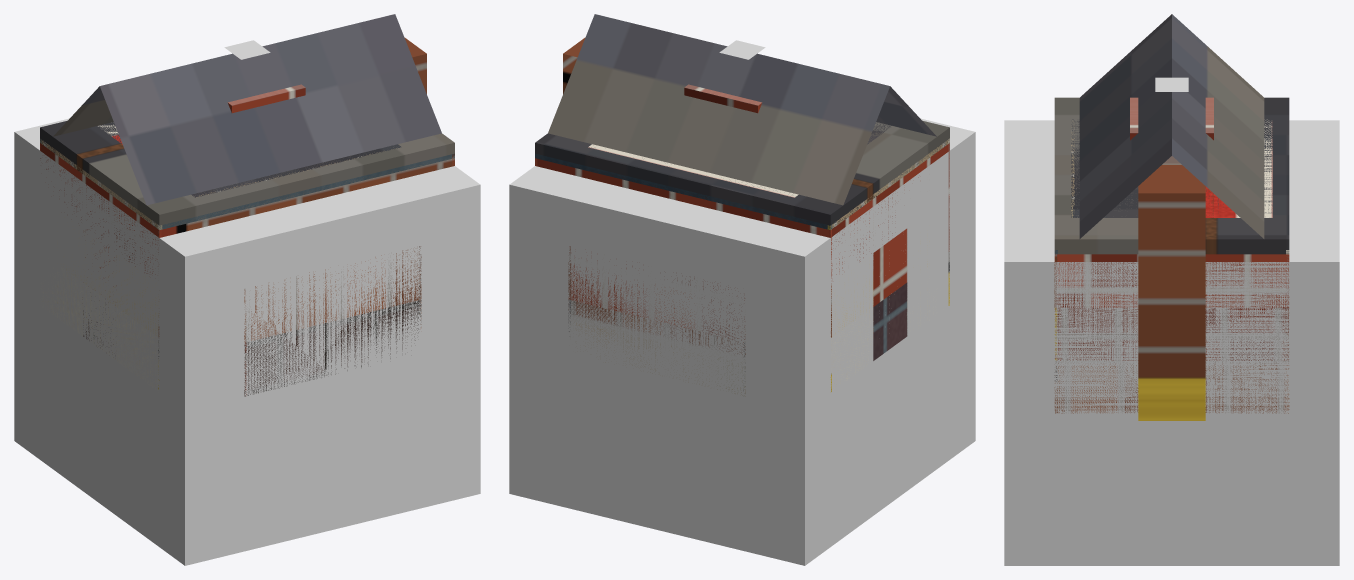
Rendered from blair_house.glb.
3 views of the same model, side by side, from view 1: azimuth 30°, elevation 25°; view 2: azimuth 150°, elevation 25°; view 3: azimuth 270°, elevation 25° (orthographic).
Visible parts, largest first — view 1: Cube, st_matthews_cathedral_roof_-1_xb, albany_courthouse_roof_xf, st_matthews_cathedral__wall_0_xb, albany_courthouse__wall_3_xb, albany_courthouse__wall_0_xb, albany_courthouse__cornice_0, st_matthews_cathedral_roof_1_xb, masonic_temple_roof_xb, st_matthews_cathedral__tower_xb, albany_courthouse__cornice_3; view 2: Cube, st_matthews_cathedral_roof_1_xb, albany_courthouse_roof_xf, st_matthews_cathedral__wall_9_xb, st_matthews_cathedral__wall_6_xb, albany_courthouse__wall_2_xb, st_matthews_cathedral__wall_9_xf, albany_courthouse__wall_3_xb, albany_courthouse__cornice_2, st_matthews_cathedral_roof_-1_xb, masonic_temple_roof_xb, st_matthews_cathedral__tower_xb (+1 smaller); view 3: Cube, laramie_fire_station__hose_tower_xf, albany_courthouse__wall_1_xb, st_matthews_cathedral_roof_-1_xb, st_matthews_cathedral_roof_1_xb, albany_courthouse_roof_xf, laramie_fire_station__hose_tower_xb, masonic_temple_roof_xb, st_matthews_cathedral__tower_xb, albany_courthouse_roof_xb, st_matthews_cathedral_cross_xb.
Part boxes in pixels (box(x1,y1,x2,y2)): Cube: box(14, 118, 480, 565); st_matthews_cathedral_roof_-1_xb: box(100, 14, 441, 205); albany_courthouse_roof_xf: box(40, 120, 454, 229); st_matthews_cathedral__wall_0_xb: box(244, 250, 421, 396); albany_courthouse__wall_3_xb: box(40, 143, 161, 389); albany_courthouse__wall_0_xb: box(158, 158, 454, 356); albany_courthouse__cornice_0: box(157, 153, 454, 229); st_matthews_cathedral_roof_1_xb: box(53, 86, 113, 136); masonic_temple_roof_xb: box(98, 124, 401, 197); st_matthews_cathedral__tower_xb: box(227, 84, 305, 113); albany_courthouse__cornice_3: box(40, 139, 162, 229); Cube: box(509, 118, 975, 565); st_matthews_cathedral_roof_1_xb: box(548, 14, 889, 205); albany_courthouse_roof_xf: box(535, 120, 949, 229); st_matthews_cathedral__wall_9_xb: box(873, 228, 907, 360); st_matthews_cathedral__wall_6_xb: box(568, 254, 745, 396); albany_courthouse__wall_2_xb: box(535, 159, 831, 391); st_matthews_cathedral__wall_9_xf: box(873, 283, 907, 360); albany_courthouse__wall_3_xb: box(829, 144, 949, 390); albany_courthouse__cornice_2: box(535, 153, 832, 229); st_matthews_cathedral_roof_-1_xb: box(876, 86, 936, 136); masonic_temple_roof_xb: box(588, 122, 891, 197); st_matthews_cathedral__tower_xb: box(684, 84, 762, 113); Cube: box(1004, 120, 1339, 565); laramie_fire_station__hose_tower_xf: box(1138, 165, 1205, 378); albany_courthouse__wall_1_xb: box(1054, 254, 1289, 413); st_matthews_cathedral_roof_-1_xb: box(1079, 14, 1171, 238); st_matthews_cathedral_roof_1_xb: box(1172, 14, 1264, 238); albany_courthouse_roof_xf: box(1054, 97, 1289, 254); laramie_fire_station__hose_tower_xb: box(1138, 377, 1205, 420); masonic_temple_roof_xb: box(1071, 119, 1272, 217); st_matthews_cathedral__tower_xb: box(1130, 97, 1213, 140); albany_courthouse_roof_xb: box(1205, 188, 1217, 254); st_matthews_cathedral_cross_xb: box(1155, 77, 1188, 91).
Bounding box in the file's own units: 2.1 × 2.7 × 2.
9 materials, 8 textured.
